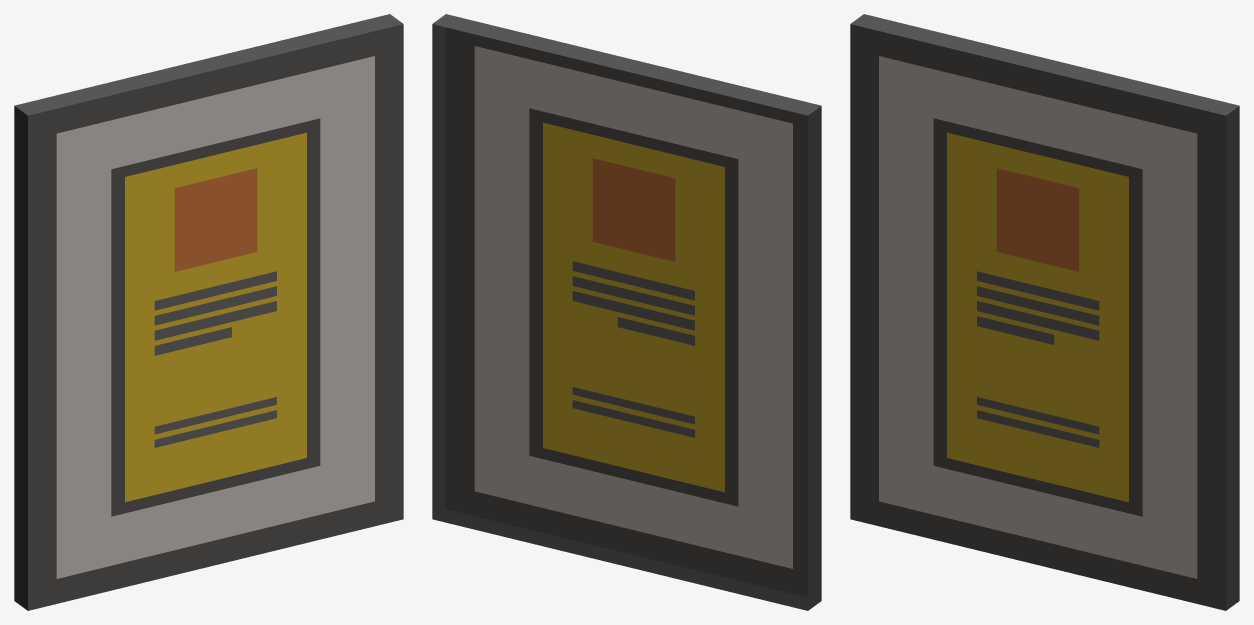
The model's file is SO_AwardFrame.fbx.
The picture shows the model from 3 angles, left to right: view 1: azimuth 30°, elevation 25°; view 2: azimuth 150°, elevation 25°; view 3: azimuth 330°, elevation 25°; orthographic projection.
Visible parts, largest first — view 1: SO_AwardFrame; view 2: SO_AwardFrame; view 3: SO_AwardFrame.
Part boxes in pixels (x1=…): SO_AwardFrame: x1=14, y1=14, x2=403, y2=610; SO_AwardFrame: x1=432, y1=14, x2=821, y2=610; SO_AwardFrame: x1=850, y1=14, x2=1239, y2=610.
Bounding box in the file's own units: 0.9283 × 1.17 × 0.0587.
